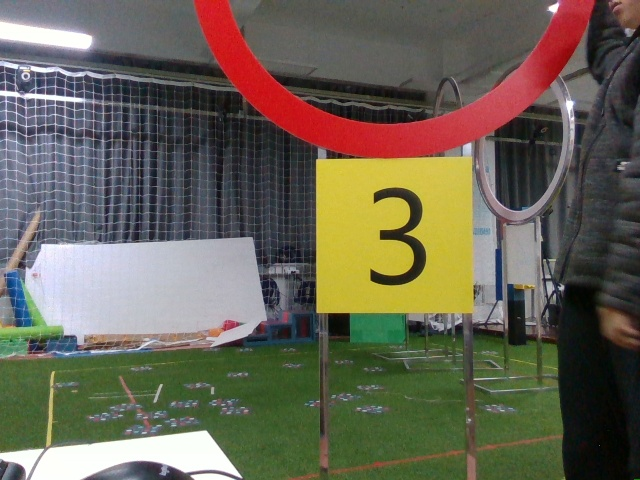target: (317, 163, 477, 314)
